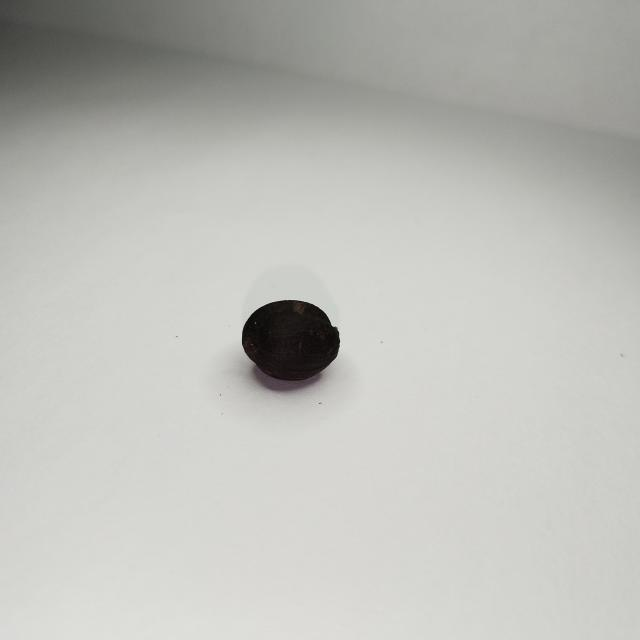Danado: (242, 299, 339, 382)
